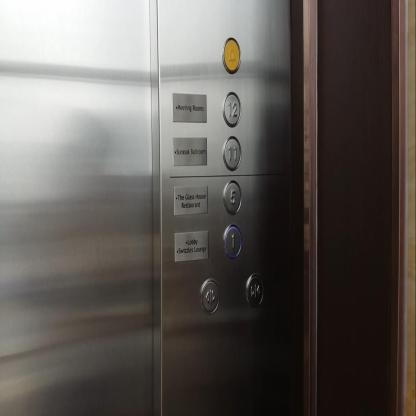1: (222, 222, 242, 258)
11: (222, 134, 242, 172)
12: (222, 91, 242, 127)
5: (222, 179, 242, 216)
alarm: (222, 33, 242, 76)
close: (244, 270, 264, 309)
open: (199, 277, 220, 315)
